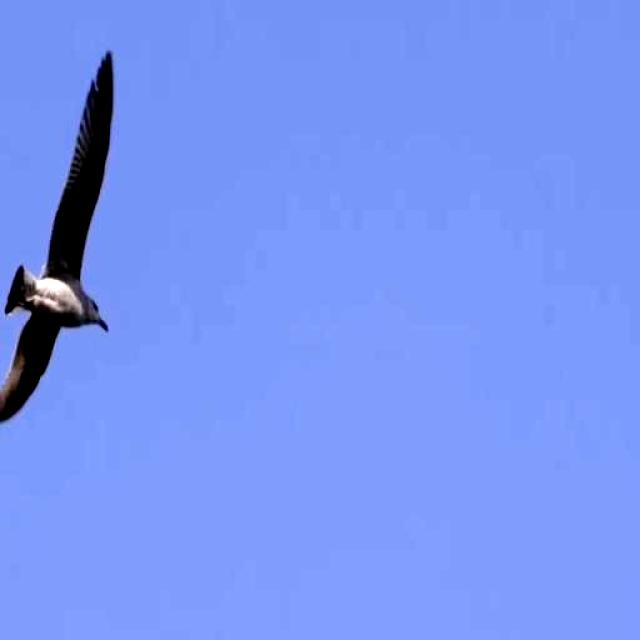airplane: (0, 30, 120, 425)
